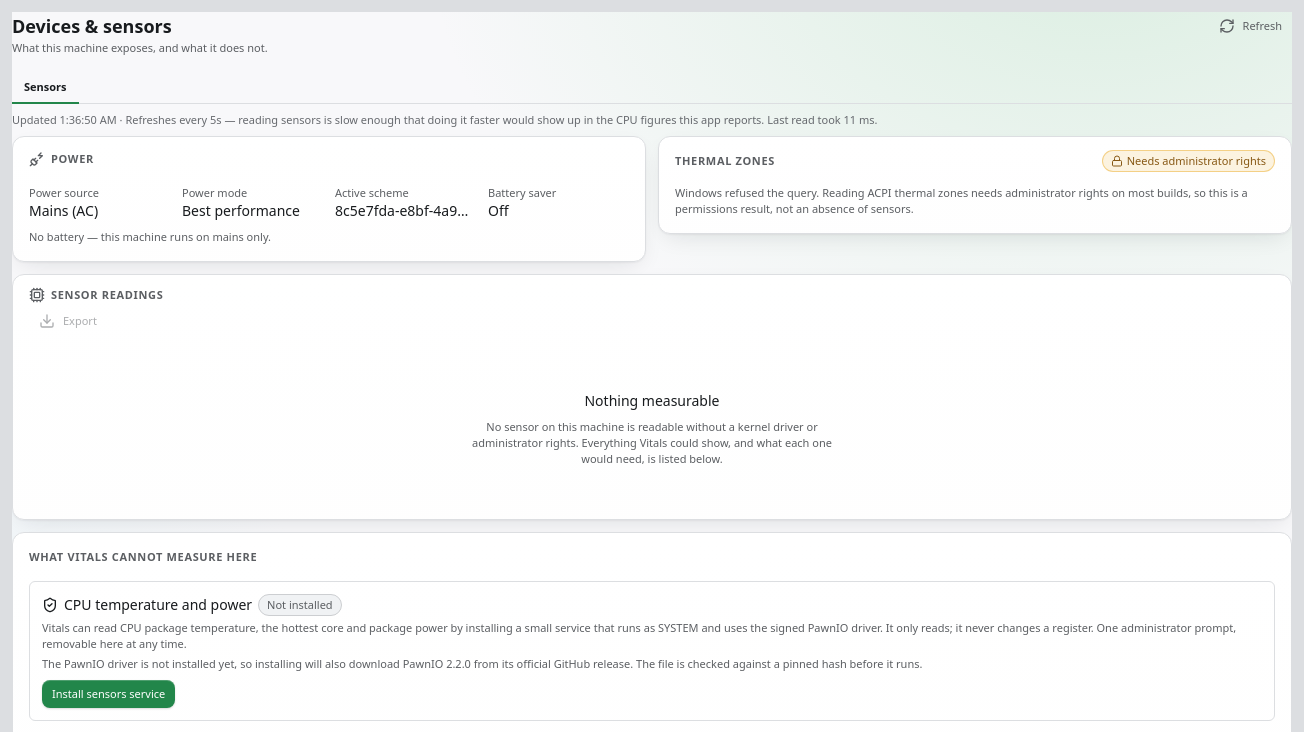
Test: the CPU sensors service › surfaces a real failure as an error
Expected: the heading "CPU temperature and power" is shown, [64, 595, 252, 615]
Click the button "Install sensors service": (109, 694) [42, 680, 175, 708]
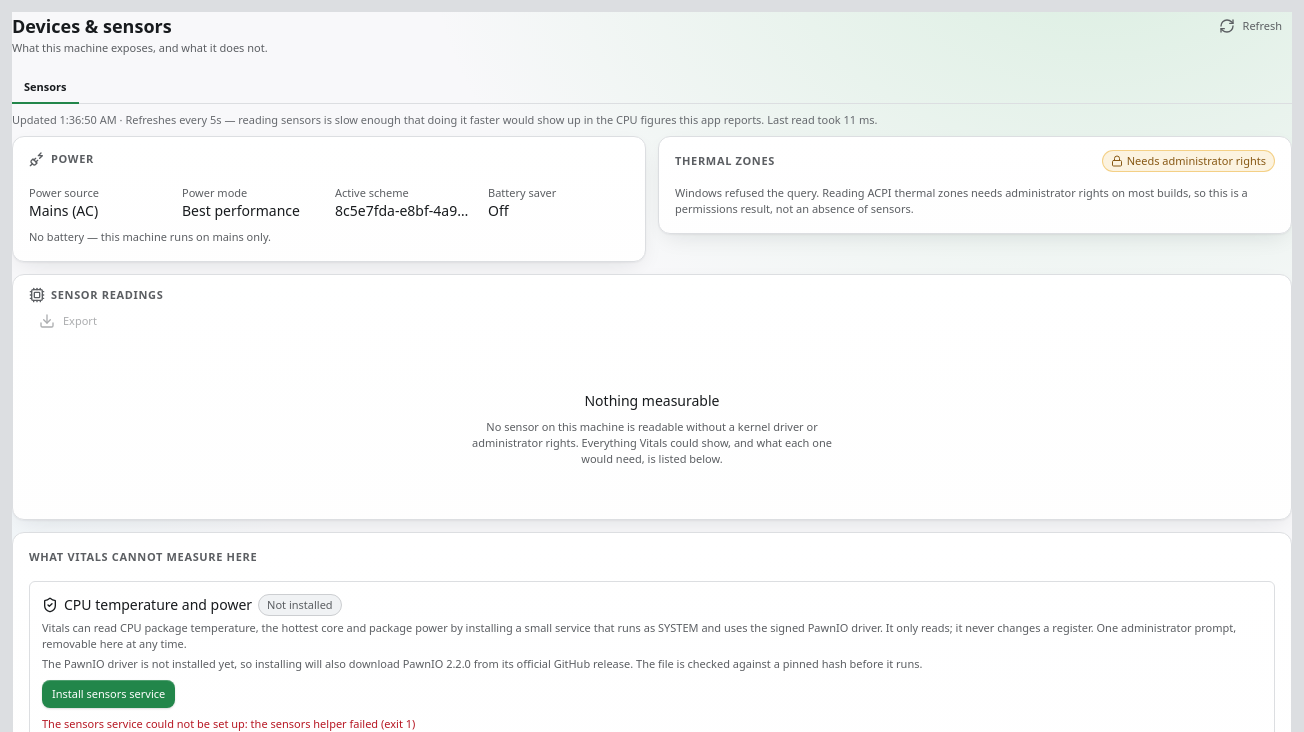
Now the message "The sensors service could not be set up: the sensors helper failed (exit 1)" is shown, box [42, 716, 415, 731]
